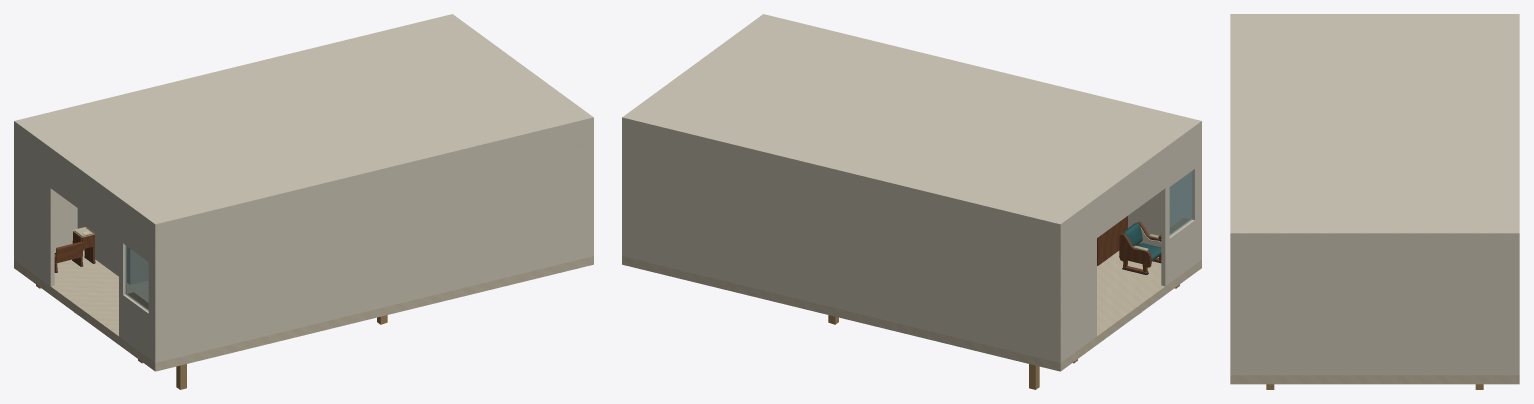
Rendered from NightGardenD15Specialty_434_r001.glb.
3 views of the same model, side by side, from view 1: azimuth 30°, elevation 25°; view 2: azimuth 150°, elevation 25°; view 3: azimuth 270°, elevation 25° (orthographic). The views are drawn at different scales.
Parts seen in each view (by area): view 1: NG434_Ceiling, NG434_NorthSide, NG434_RoomFloor, NG434_EntryShoulderSouth, NG434_EntryHeader, NG434_StreetWindowLower, NG434_WashEntrySide, NG434_SouthSide, NG434_StreetWindowUpper, NG434_ScreenedStreetGlass; view 2: NG434_Ceiling, NG434_SouthSide, NG434_RoomFloor, NG434_EntryShoulderSouth, NG434_EntryHeader, NG434_NorthSide, NG434_StreetWindowLower, NG434_StreetWindowUpper, NG434_ScreenedStreetGlass, NG434_EntryPrivacyDogleg, NG434_DayReadingChair__DAY_CHAIR_R_swept_walnut_cheek; view 3: NG434_Ceiling, NG434_OpaqueRearBoundary, NG434_RoomFloor, NG434_NorthSide, NG434_SouthSide.
Part boxes in pixels (x1,y1,x2,y2): NG434_Ceiling: (14, 14, 593, 229); NG434_NorthSide: (153, 123, 593, 362); NG434_RoomFloor: (14, 250, 593, 371); NG434_EntryShoulderSouth: (16, 128, 54, 286); NG434_EntryHeader: (49, 153, 119, 238); NG434_StreetWindowLower: (119, 292, 152, 360); NG434_WashEntrySide: (77, 208, 133, 284); NG434_SouthSide: (14, 127, 77, 260); NG434_StreetWindowUpper: (119, 204, 152, 264); NG434_ScreenedStreetGlass: (125, 245, 148, 310); NG434_Ceiling: (622, 14, 1201, 229); NG434_SouthSide: (622, 123, 1062, 362); NG434_RoomFloor: (622, 251, 1201, 371); NG434_EntryShoulderSouth: (1063, 204, 1096, 360); NG434_EntryHeader: (1096, 152, 1166, 238); NG434_NorthSide: (1128, 127, 1201, 260); NG434_StreetWindowLower: (1161, 217, 1199, 286); NG434_StreetWindowUpper: (1163, 128, 1199, 190); NG434_ScreenedStreetGlass: (1169, 171, 1192, 235); NG434_EntryPrivacyDogleg: (1097, 216, 1127, 265); NG434_DayReadingChair__DAY_CHAIR_R_swept_walnut_cheek: (1119, 233, 1151, 267); NG434_Ceiling: (1230, 14, 1519, 238); NG434_OpaqueRearBoundary: (1235, 239, 1514, 375); NG434_RoomFloor: (1230, 375, 1519, 384); NG434_NorthSide: (1230, 239, 1234, 375); NG434_SouthSide: (1515, 239, 1519, 375).
Bounding box in the file's own units: 12.9 × 5.31 × 7.2.
Materials: 67 (49 with a texture image).
